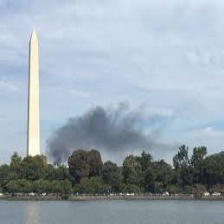smoke: (47, 104, 158, 167)
